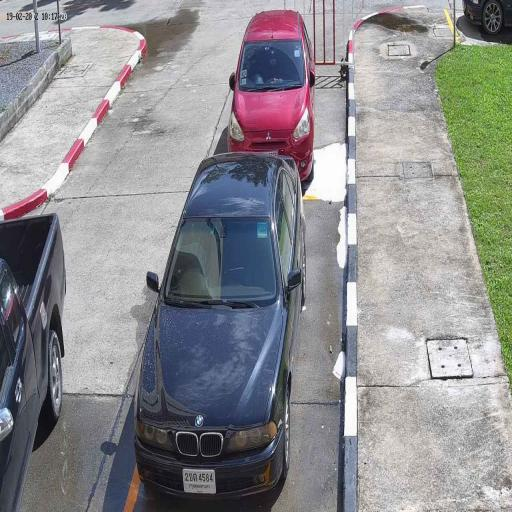car: (132, 150, 309, 505), (0, 212, 70, 512), (226, 8, 316, 185)
